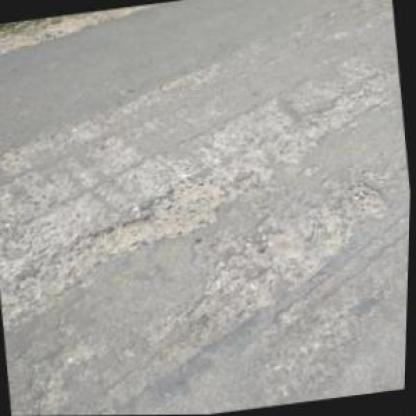pothole: (83, 175, 232, 263), (262, 92, 363, 165), (344, 179, 392, 220)
